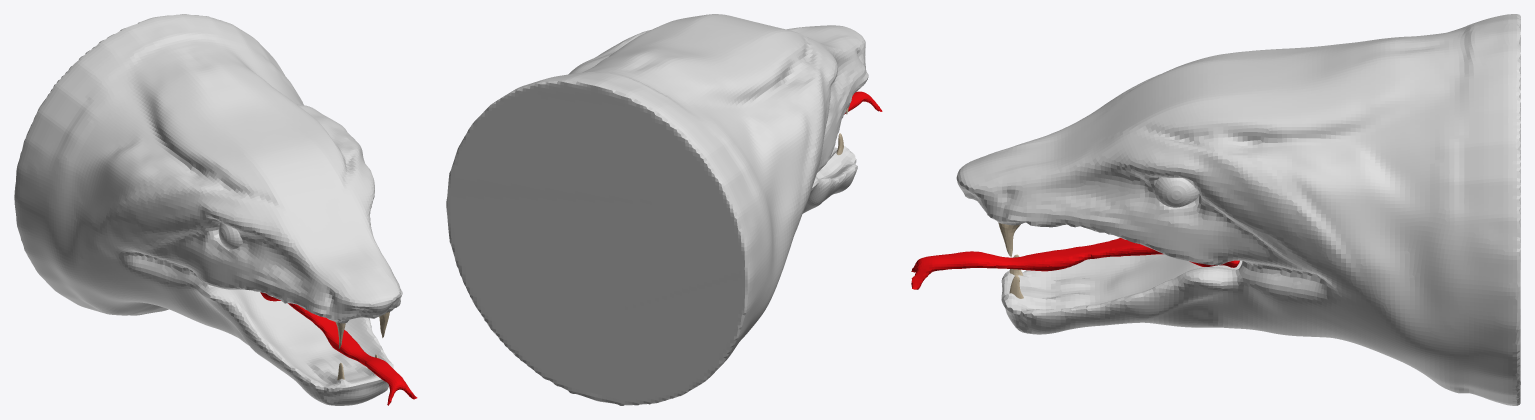
Rendered from snekbullet_8.fbx.
The picture shows the model from 3 angles, left to right: view 1: azimuth 30°, elevation 25°; view 2: azimuth 150°, elevation 25°; view 3: azimuth 270°, elevation 25°; orthographic projection. The views are drawn at different scales.
Visible parts, largest first — view 1: Snake_head, Tongue, Eyes; view 2: Snake_head; view 3: Snake_head, Tongue, Eyes.
Boxes of the visible parts, bbox=[...] form: Snake_head: bbox=[14, 14, 402, 405]; Tongue: bbox=[260, 292, 417, 405]; Eyes: bbox=[218, 222, 242, 249]; Snake_head: bbox=[446, 14, 868, 405]; Snake_head: bbox=[956, 14, 1520, 405]; Tongue: bbox=[911, 238, 1239, 289]; Eyes: bbox=[1153, 177, 1199, 207].
Bounding box in the file's own units: 200 × 199 × 310.
